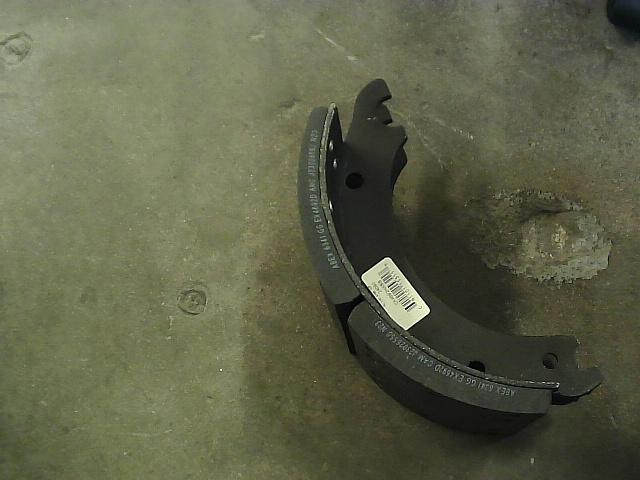brake-shoes: (295, 78, 606, 442)
